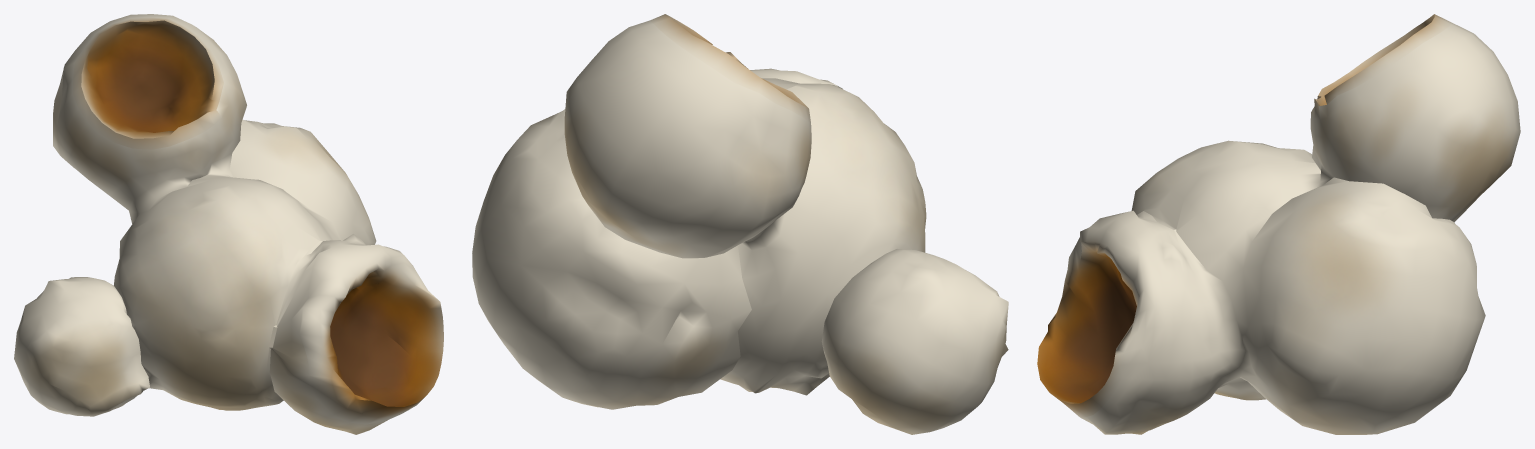
File: PopcornBuschV2Final.fbx
3 views of the same model, side by side, from view 1: azimuth 30°, elevation 25°; view 2: azimuth 150°, elevation 25°; view 3: azimuth 270°, elevation 25° (orthographic). The views are drawn at different scales.
Parts seen in each view (by area): view 1: Popcorn_V2; view 2: Popcorn_V2; view 3: Popcorn_V2.
Boxes of the visible parts, x1,y1,x2,y2 form: Popcorn_V2: [14, 14, 443, 434]; Popcorn_V2: [472, 14, 1008, 434]; Popcorn_V2: [1037, 14, 1520, 434].
Size of the model in its own units: 1.62 by 1.42 by 1.71.
